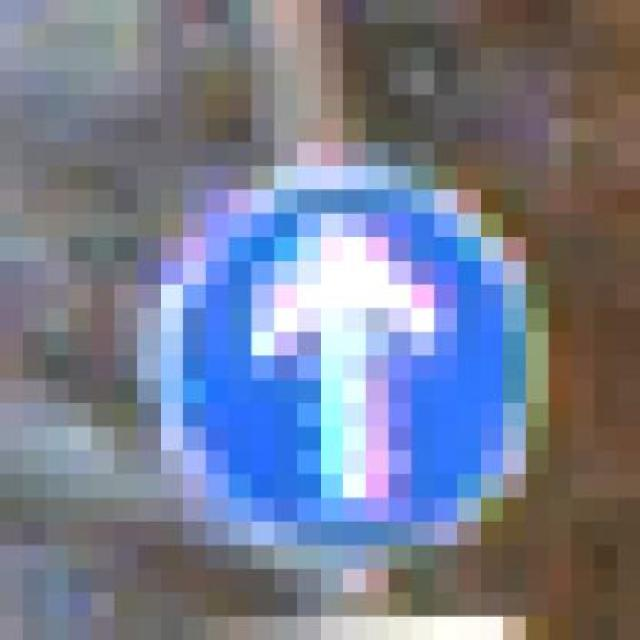Straight Ahead Only: (122, 129, 580, 603)
